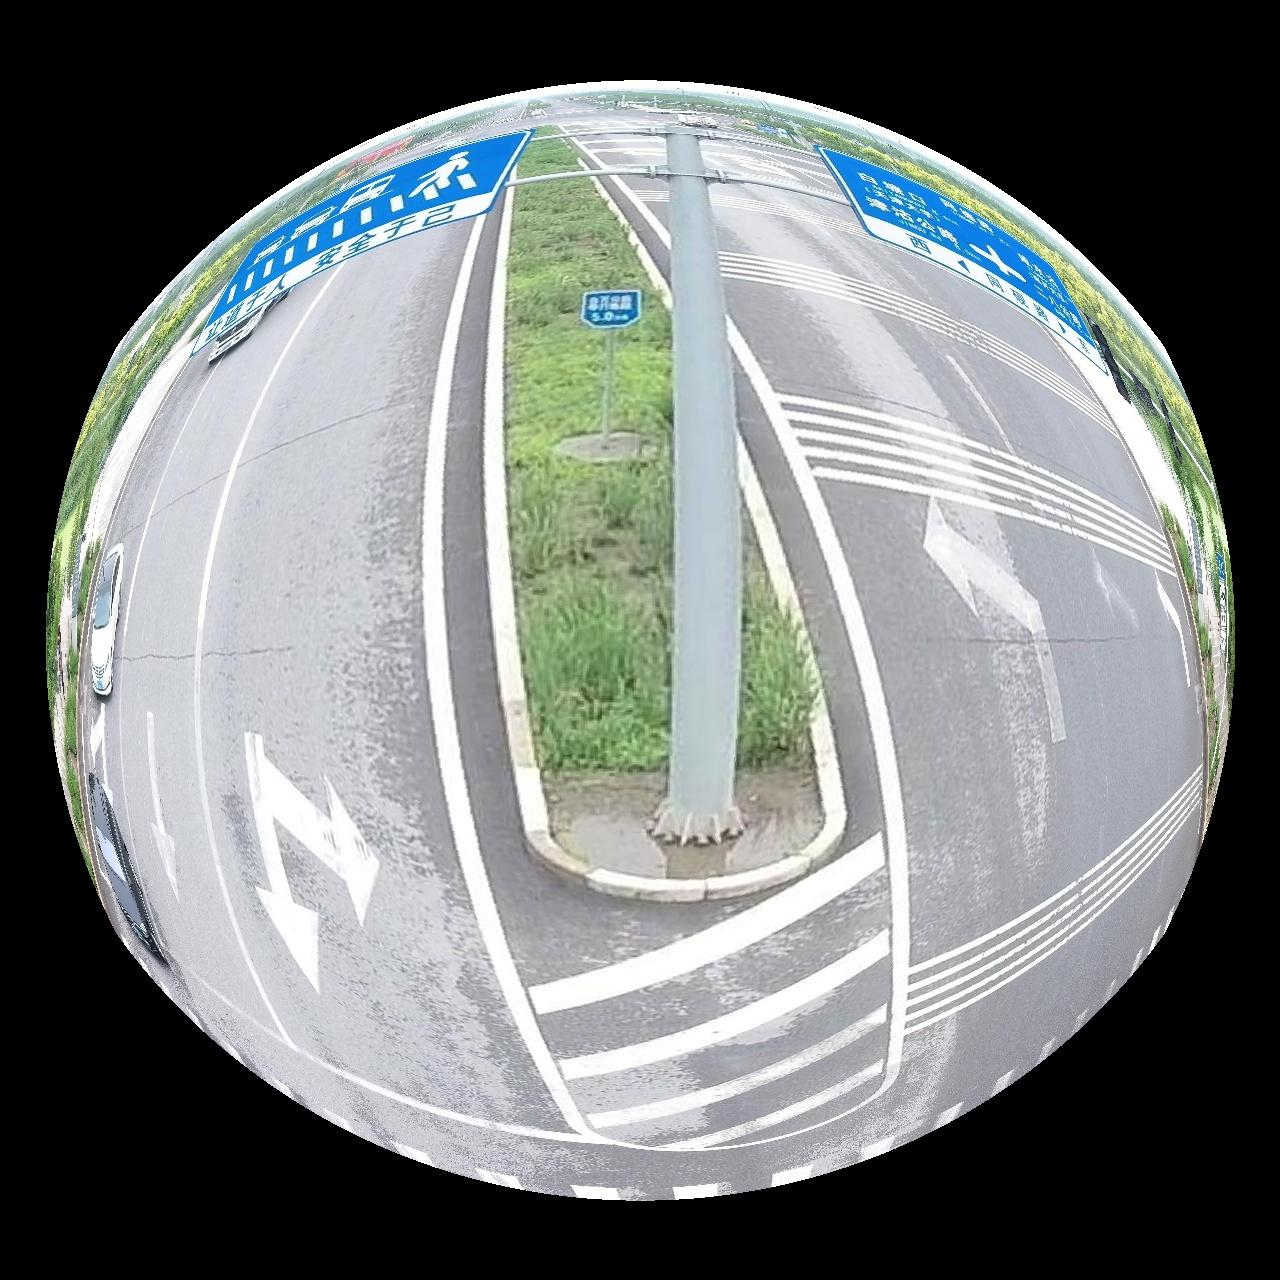cars: (86, 774, 162, 964), (207, 290, 287, 362), (89, 544, 122, 696)
